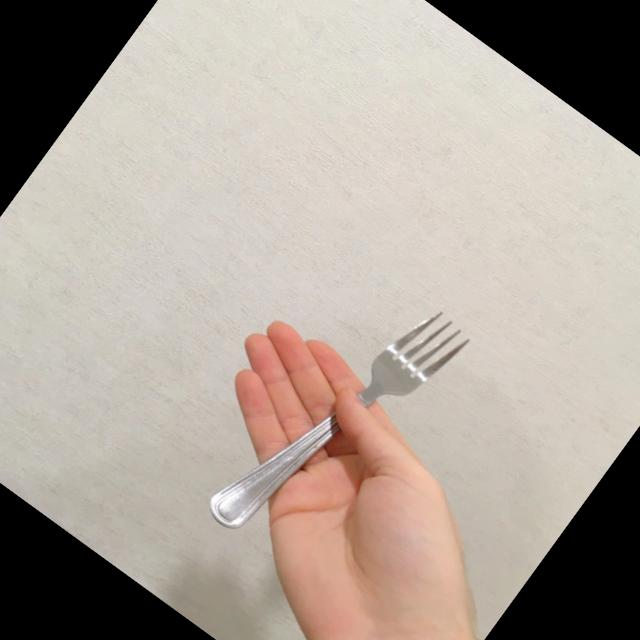fork: (200, 262, 478, 580)
